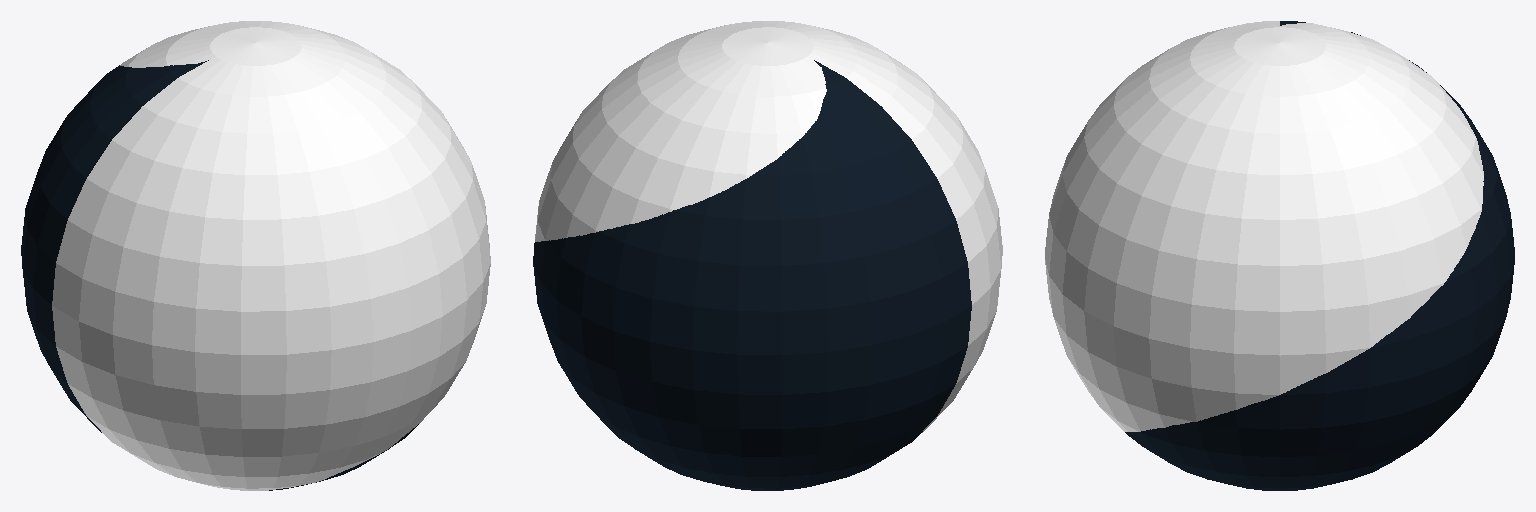
The picture shows the model from 3 angles: view 1: azimuth 30°, elevation 25°; view 2: azimuth 150°, elevation 25°; view 3: azimuth 270°, elevation 25°; orthographic projection.
Parts seen in each view (by area): view 1: 球; view 2: 球; view 3: 球.
Part boxes in pixels (left/top/right/bottom): 球: left=21, top=21, right=490, bottom=490; 球: left=533, top=21, right=1002, bottom=490; 球: left=1045, top=21, right=1514, bottom=490.
Bounding box in the file's own units: 2 × 2 × 2.
1 materials, 1 textured.